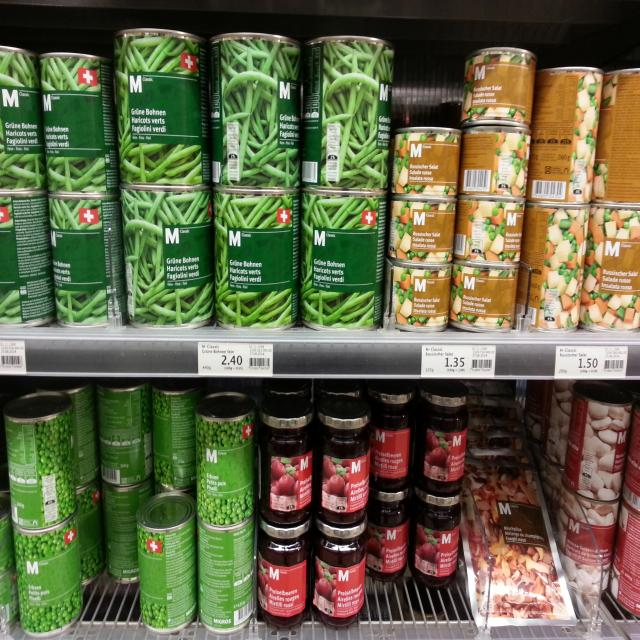Canned: (459, 463, 573, 626), (206, 26, 302, 192), (111, 27, 209, 183), (304, 32, 397, 194), (118, 181, 216, 332), (297, 184, 392, 332), (212, 187, 302, 335), (43, 186, 129, 324), (42, 46, 119, 198), (527, 58, 606, 205), (0, 392, 79, 534), (132, 492, 200, 635), (7, 512, 86, 634), (522, 198, 589, 336), (192, 387, 258, 527), (579, 201, 640, 344), (193, 505, 260, 635), (556, 483, 619, 617), (460, 42, 541, 139), (0, 183, 54, 328), (317, 391, 374, 528), (258, 394, 316, 527), (560, 387, 633, 489), (0, 41, 47, 191), (410, 381, 473, 492), (460, 116, 535, 206), (406, 479, 470, 583), (311, 513, 366, 630), (95, 381, 154, 490), (260, 505, 311, 629), (452, 256, 522, 334), (396, 127, 466, 204), (459, 194, 526, 273), (368, 478, 418, 582), (390, 198, 460, 268), (388, 262, 454, 331), (376, 387, 415, 489)
